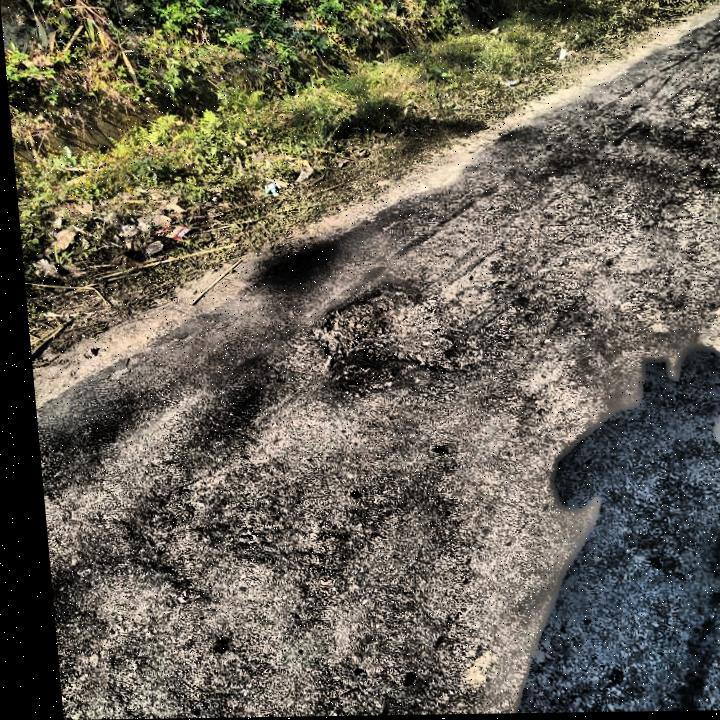pothole: (300, 283, 446, 379)
